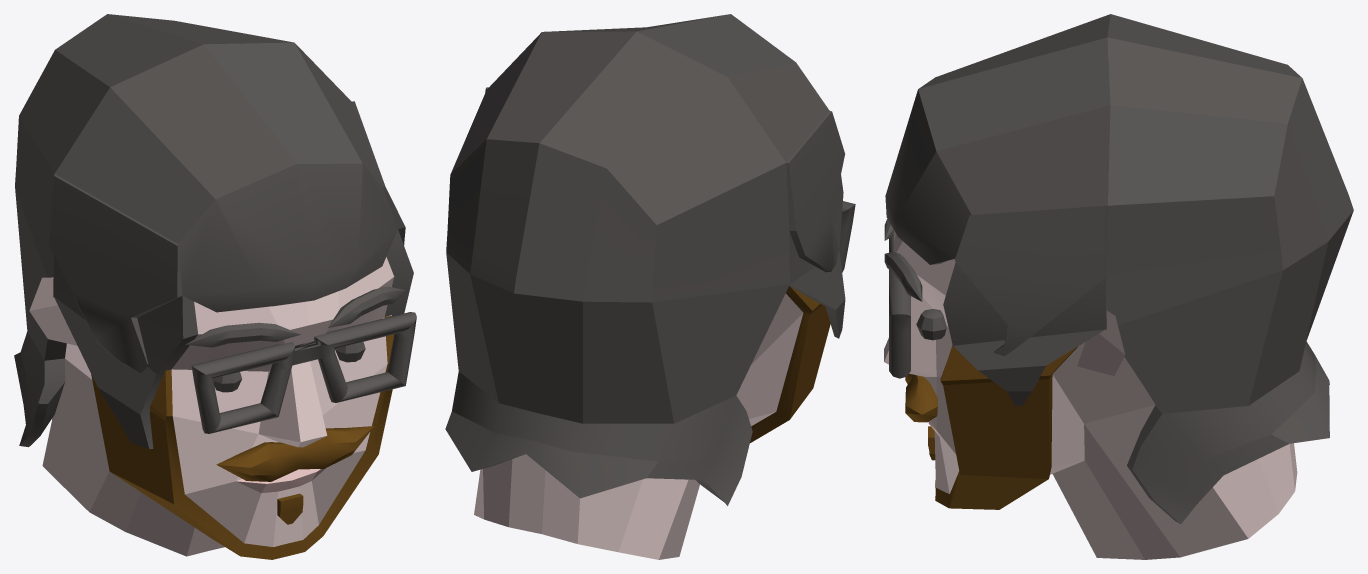
3 views of the same model, side by side, from view 1: azimuth 30°, elevation 25°; view 2: azimuth 150°, elevation 25°; view 3: azimuth 270°, elevation 25° (orthographic).
Parts seen in each view (by area): view 1: Null.1-black (×4), Null.1-Mat.2, Null.1-Mat (×2), Null.1-Mat.1; view 2: Null.1-black (×2), Null.1-Mat.2, Null.1-Mat; view 3: Null.1-black (×4), Null.1-Mat.2, Null.1-Mat (×2).
Boxes of the visible parts, box(x1,y1,x2,y2) form: Null.1-black (×4): box(14, 14, 416, 448); Null.1-Mat.2: box(29, 257, 394, 556); Null.1-Mat (×2): box(91, 315, 394, 559); Null.1-Mat.1: box(236, 468, 325, 493); Null.1-black (×2): box(445, 14, 855, 505); Null.1-Mat.2: box(474, 293, 803, 559); Null.1-Mat: box(750, 286, 830, 442); Null.1-black (×4): box(884, 14, 1353, 523); Null.1-Mat.2: box(884, 230, 1297, 559); Null.1-Mat (×2): box(905, 345, 1078, 509).
Size of the model in its own units: 630 by 914 by 764.
